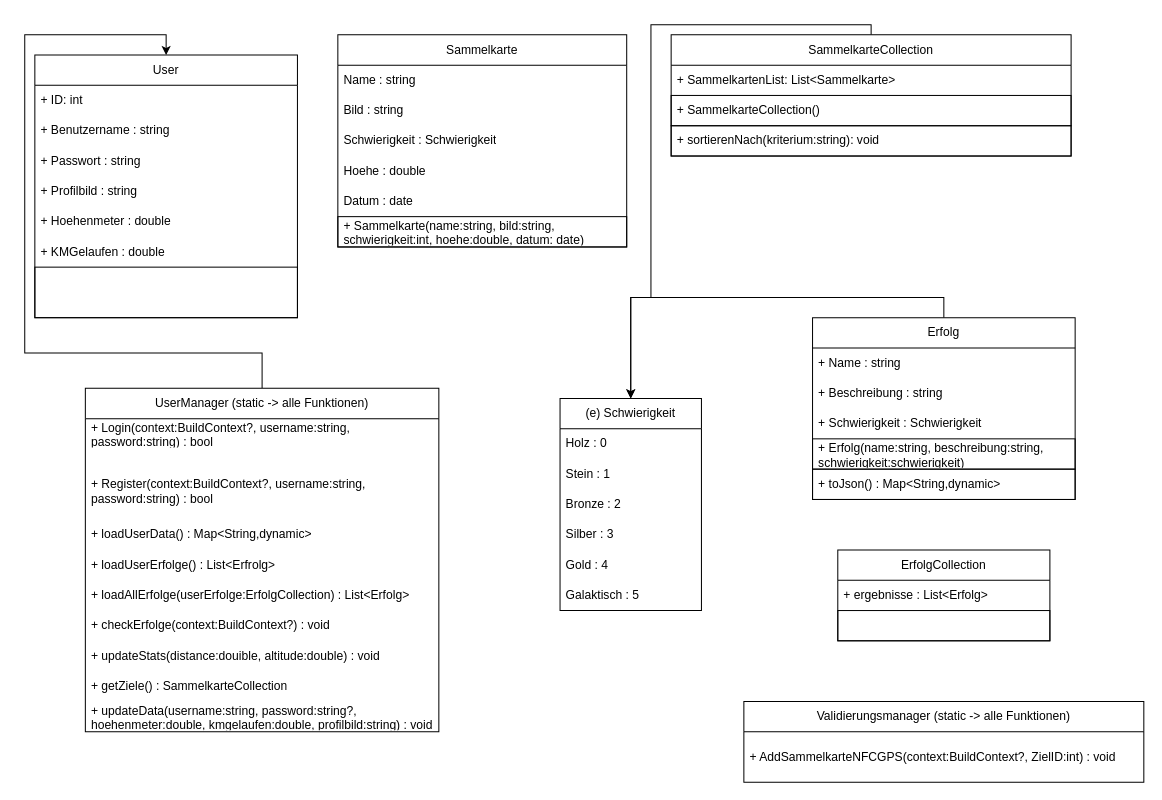
This 1162x800 diagram has some shape labels left out. Here are the shapes that lost their labels. From the top down, the centre of each, then its label:
(165,292): + User(id: int, benutzerame: string, passwort:string, profilbild:string)
(943,625): + ErfolgCollection()
